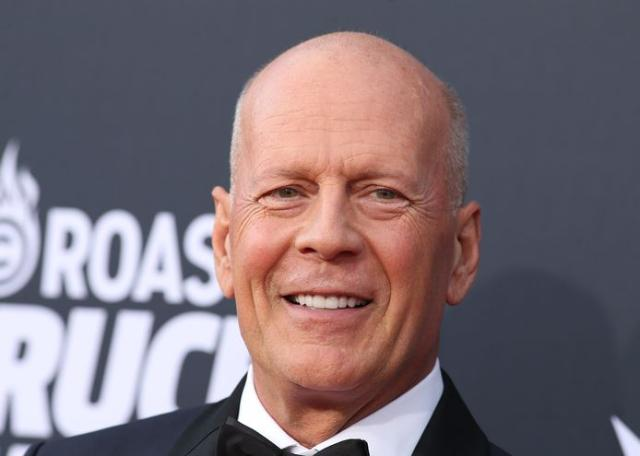crows_feet: (407, 191, 435, 229), (239, 190, 259, 224)
frown_line: (315, 156, 331, 182), (336, 154, 352, 180)
gummy_smile: (368, 244, 394, 288), (262, 243, 284, 290), (378, 294, 397, 324)
masseter: (242, 280, 262, 318)
